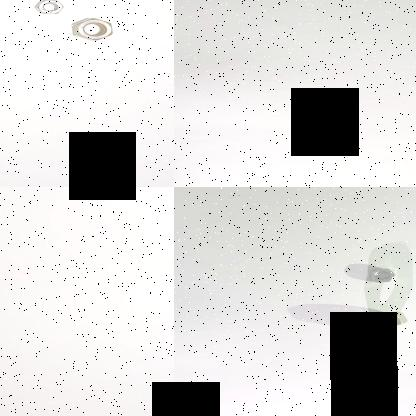NUTS: (62, 12, 120, 45), (359, 306, 416, 333), (346, 265, 402, 286), (33, 0, 67, 13)
